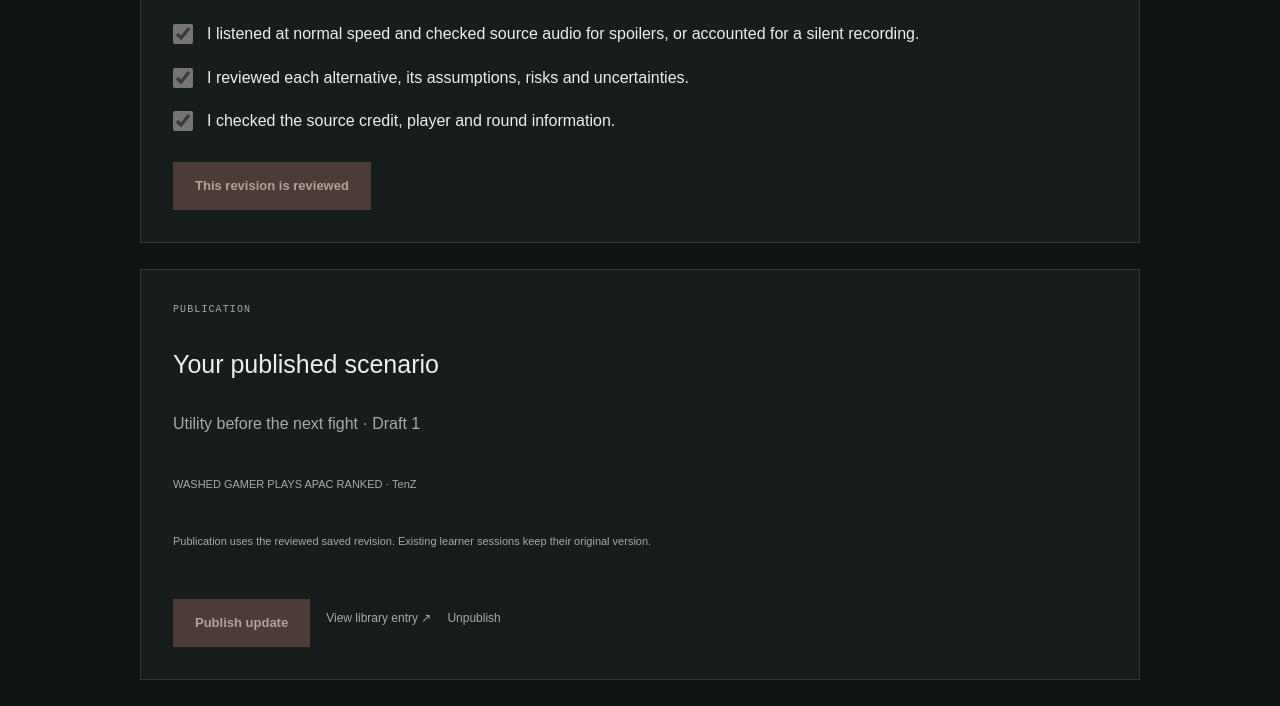
Test: review and publication controls › requires inline confirmation to unpublish and clears review after withdrawal
(page scrolled)
Click the button "Unpublish" at (474, 618), box [447,601,501,635]
(page scrolled)
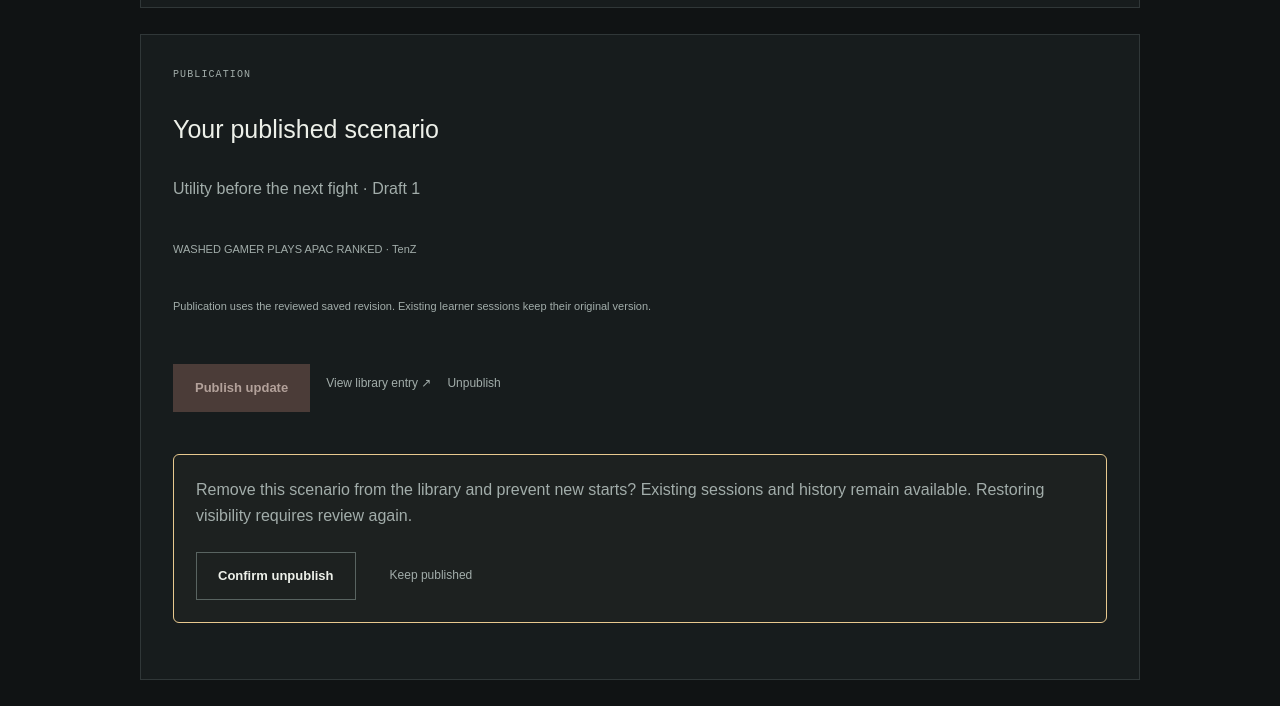
Check: the element named "Confirm unpublish" is shown, box [173,454,1107,623]
Click the button "Keep published" at (431, 575), box [390,558,472,592]
(page scrolled)
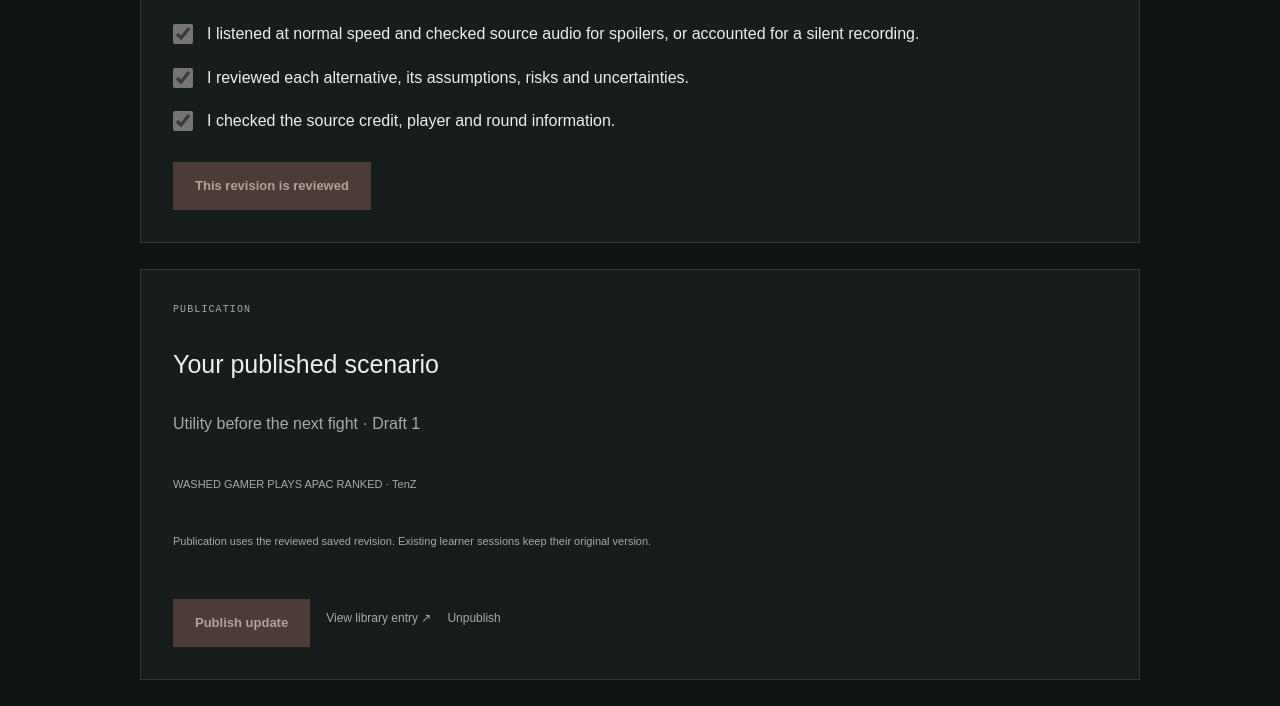
Click the button "Unpublish" at (474, 618), box [447,601,501,635]
(page scrolled)
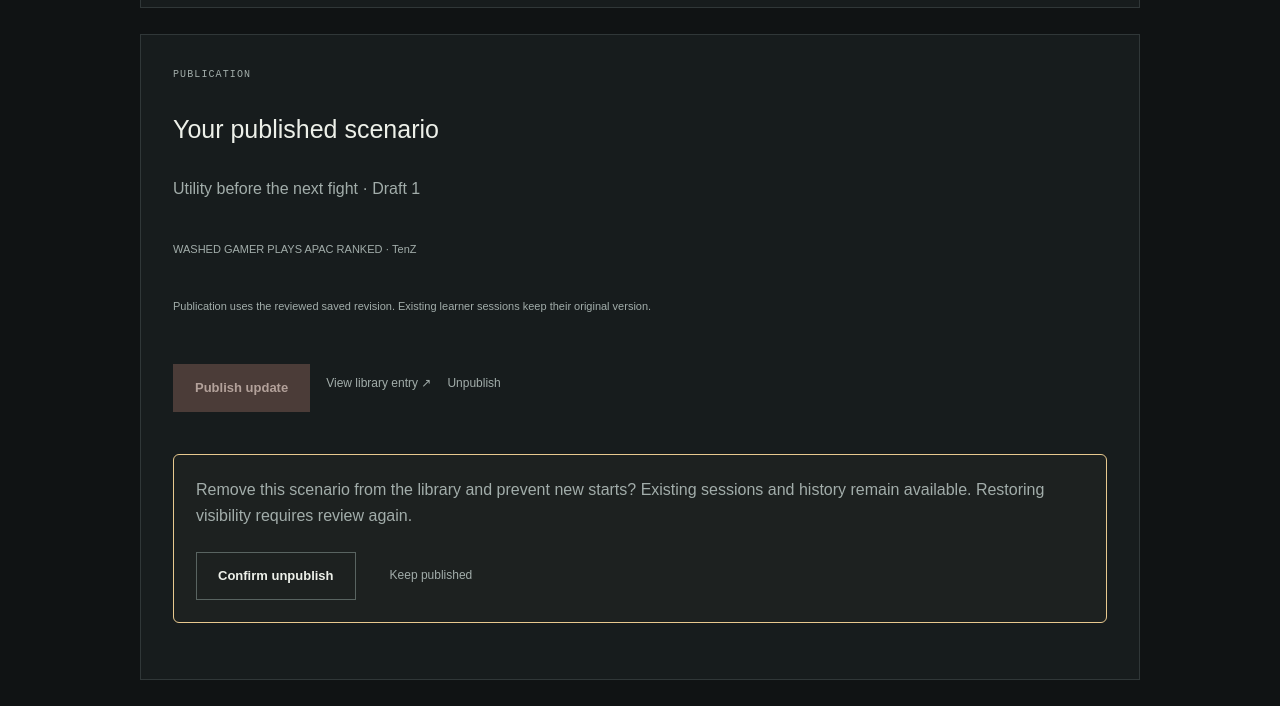
Click the button "Confirm unpublish" at (276, 576), box [196,552,356,600]
(page scrolled)
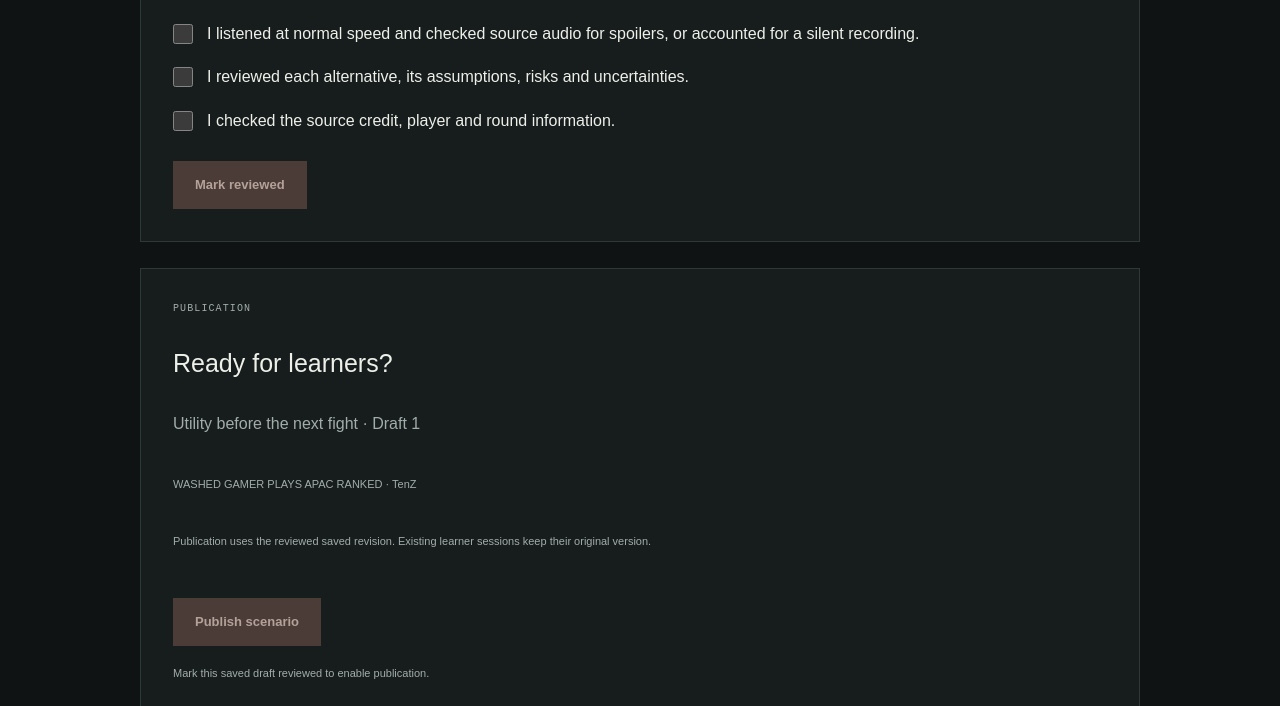
Check: the button "Publish scenario" is disabled, box [173,598,321,646]
Check: the link "View library" is gone
